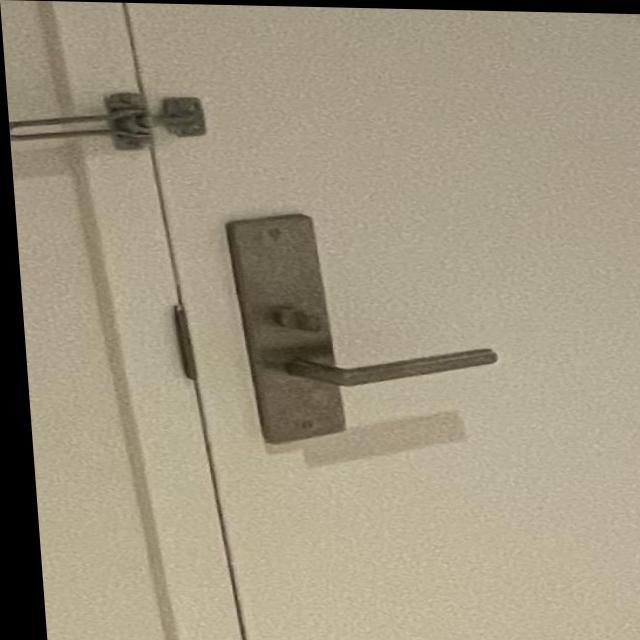door_handle: (236, 332, 516, 397)
